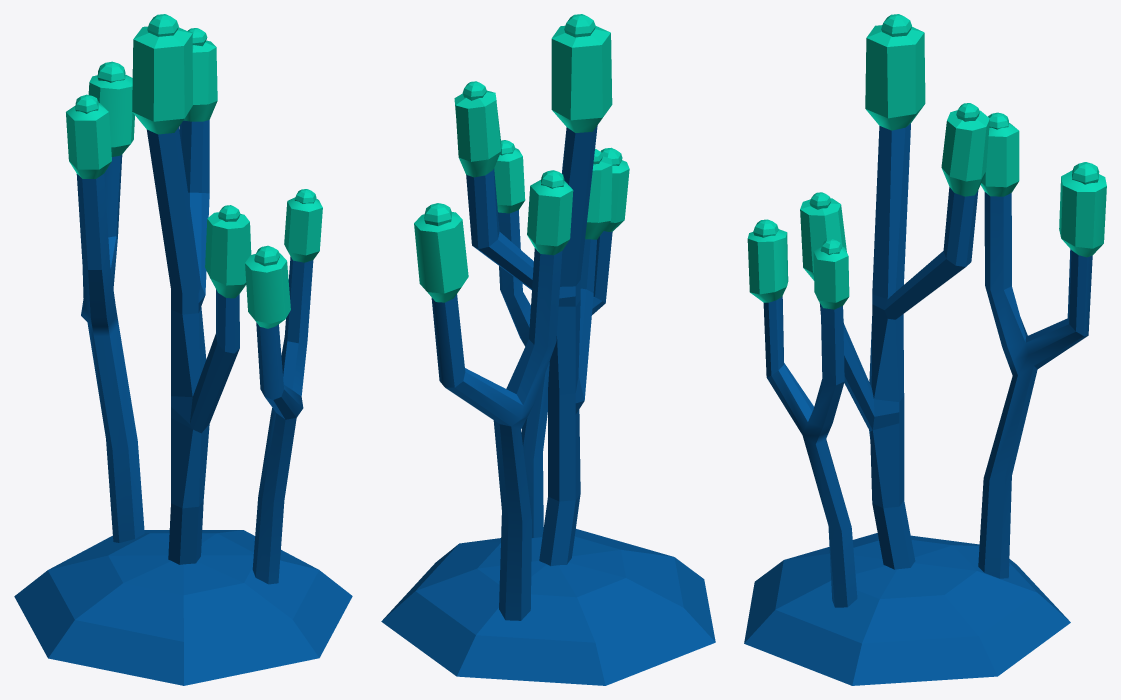
File: Stick_Fungus.fbx
The picture shows the model from 3 angles, left to right: view 1: azimuth 30°, elevation 25°; view 2: azimuth 150°, elevation 25°; view 3: azimuth 270°, elevation 25°; orthographic projection. The views are drawn at different scales.
Parts seen in each view (by area): view 1: stem, glow; view 2: stem, glow; view 3: stem, glow.
Boxes of the visible parts, <box> form: stem: <box>14,120,352,685</box>; glow: <box>66,14,322,328</box>; stem: <box>381,125,715,685</box>; glow: <box>414,14,629,302</box>; stem: <box>744,123,1092,685</box>; glow: <box>747,14,1106,309</box>.
Size of the model in its own units: 18.47 by 36.48 by 20.31.
